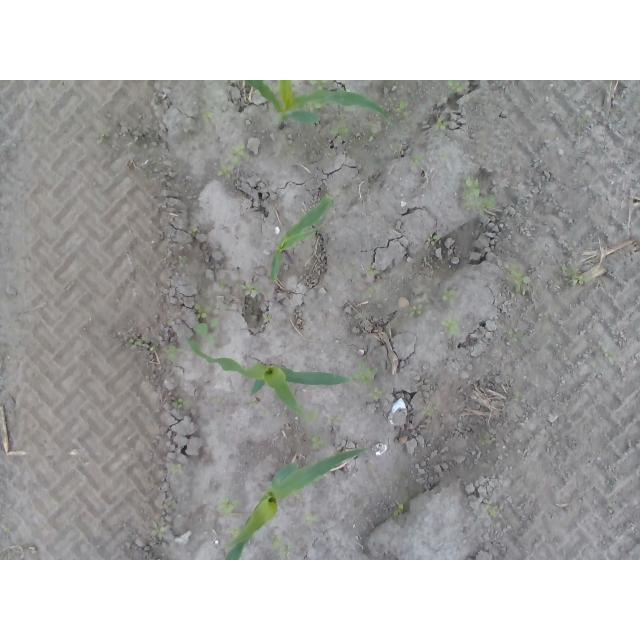Maize: (222, 448, 366, 561), (188, 336, 349, 417), (247, 81, 398, 132), (271, 192, 334, 280)
Weeds: (461, 176, 497, 213), (194, 319, 222, 346), (562, 264, 592, 287), (507, 267, 530, 294), (352, 359, 376, 383), (270, 534, 291, 558), (215, 497, 237, 516), (231, 144, 247, 169), (440, 319, 459, 335), (152, 522, 167, 542), (240, 282, 257, 299), (447, 80, 468, 93), (440, 288, 457, 304), (165, 345, 179, 364), (328, 126, 352, 137), (305, 510, 321, 526), (218, 164, 234, 179), (483, 505, 499, 520), (408, 304, 424, 319), (392, 501, 404, 520), (200, 111, 216, 125), (435, 117, 450, 131), (170, 398, 191, 408), (309, 437, 324, 451), (366, 126, 379, 142), (307, 80, 327, 90), (196, 305, 209, 320), (127, 337, 139, 351), (307, 411, 320, 422), (372, 390, 383, 403), (169, 463, 183, 473), (397, 99, 407, 110), (414, 153, 425, 163), (423, 408, 434, 418), (426, 237, 435, 248), (192, 227, 201, 237)
